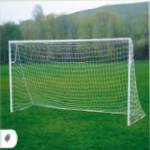goals: (7, 34, 148, 128)
